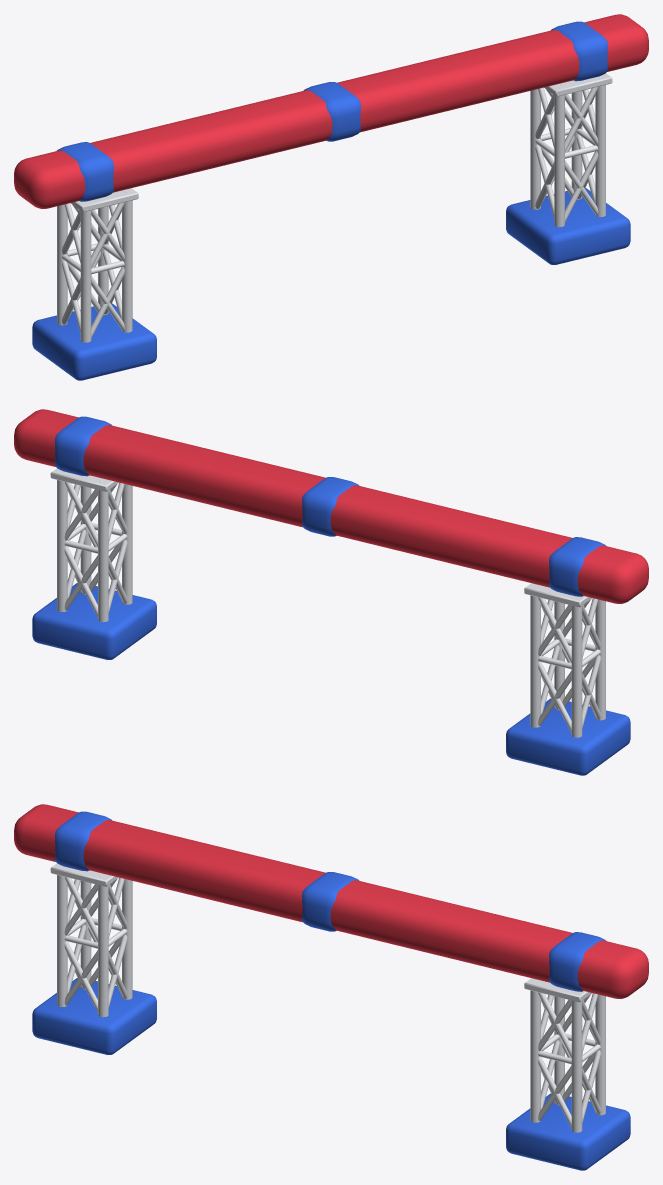
Rendered from SD_BalanceBeam.fbx.
The picture shows the model from 3 angles, top to bottom: view 1: azimuth 30°, elevation 25°; view 2: azimuth 150°, elevation 25°; view 3: azimuth 330°, elevation 25°; orthographic projection.
Parts seen in each view (by area): view 1: BalanceBeam; view 2: BalanceBeam; view 3: BalanceBeam.
Part boxes in pixels (x1,y1,x2,y2): BalanceBeam: (14, 14, 648, 380); BalanceBeam: (14, 409, 648, 775); BalanceBeam: (14, 804, 648, 1170).
Size of the model in its own units: 6 by 1.93 by 0.8.
